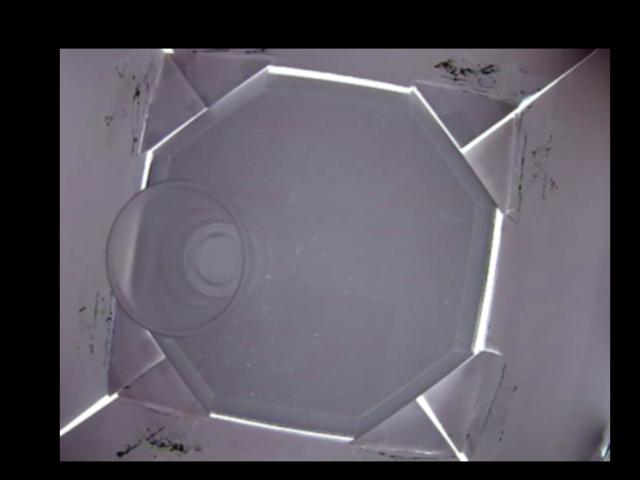Cup: (103, 175, 255, 337)
